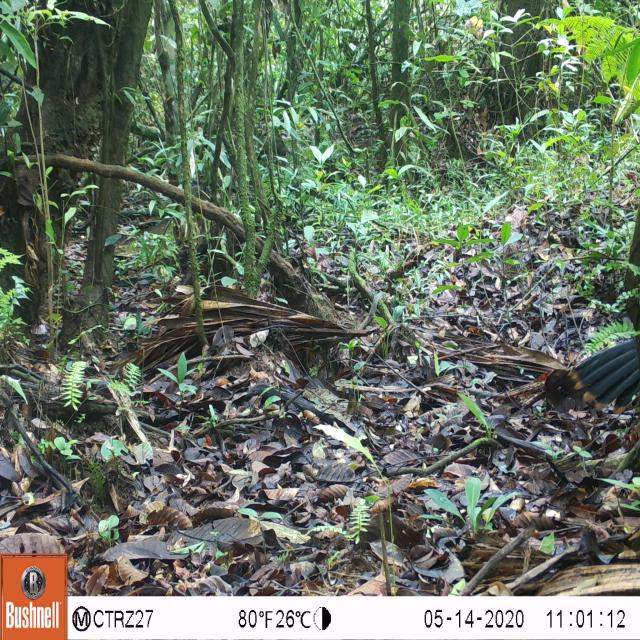Salvins Curassow: (556, 317, 640, 421)
